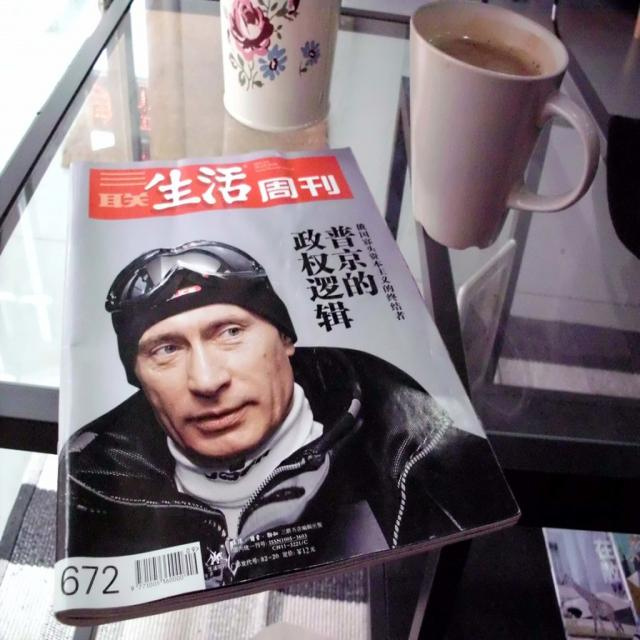Coffee: (410, 11, 580, 261)
Tea: (432, 42, 544, 76)
